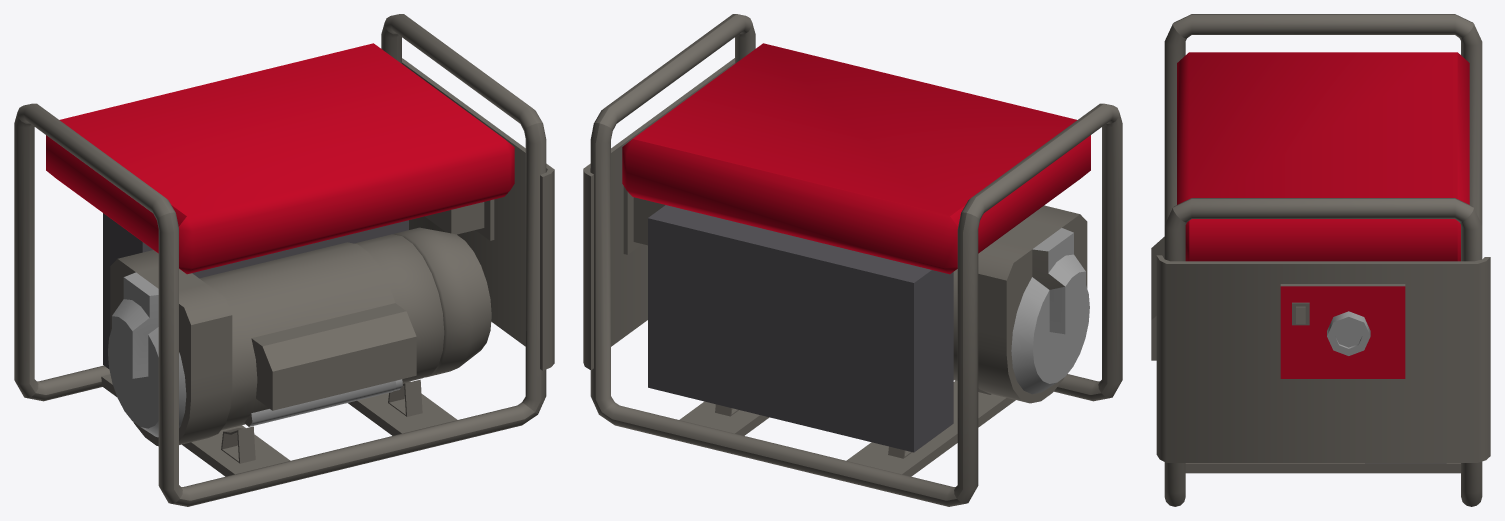
Rendered from generator.fbx.
3 views of the same model, side by side, from view 1: azimuth 30°, elevation 25°; view 2: azimuth 150°, elevation 25°; view 3: azimuth 270°, elevation 25° (orthographic). The views are drawn at different scales.
Visible parts, largest first — view 1: 1, generator.001, 2, 3; view 2: generator.001, 1, 3, 2; view 3: 1, generator.001, 2.
Boxes of the visible parts, bbox=[...] form: 1: bbox=[14, 14, 554, 506]; generator.001: bbox=[46, 43, 514, 274]; 2: bbox=[108, 272, 402, 437]; 3: bbox=[103, 213, 408, 368]; generator.001: bbox=[622, 43, 1090, 274]; 1: bbox=[583, 14, 1122, 506]; 3: bbox=[648, 205, 953, 452]; 2: bbox=[1011, 228, 1089, 394]; 1: bbox=[1151, 14, 1490, 506]; generator.001: bbox=[1177, 52, 1469, 378]; 2: bbox=[1327, 311, 1370, 355].
Size of the model in its own units: 2155 by 1557 by 1520.
